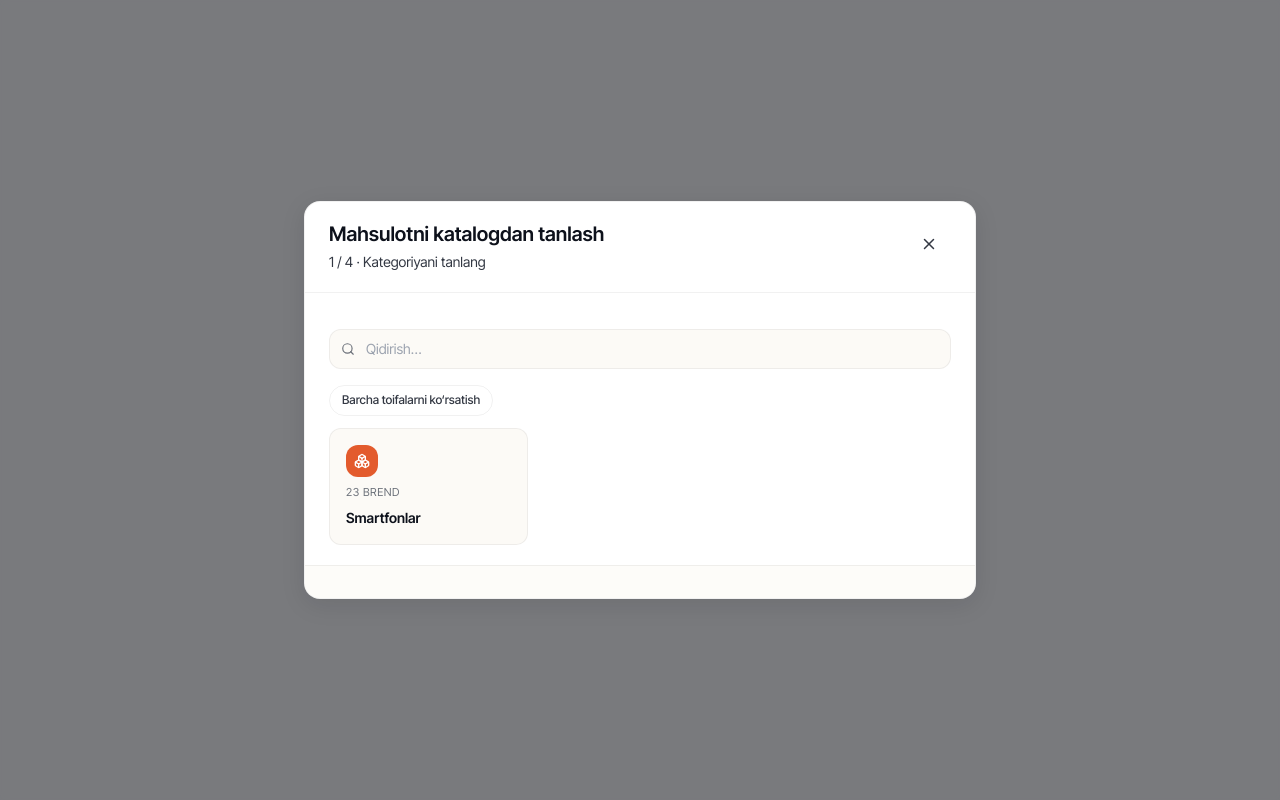
Test: catalog picker respects and can cross the tenant segment › "show all" reveals the out-of-segment category, grouped under its own header
This screenshot has width=1280, height=800.
What coordinates should you click on to do the following:
click the button "Barcha toifalarni ko‘rsatish"
I would click on:
 (411, 400)
Its box is [329,385,493,416].
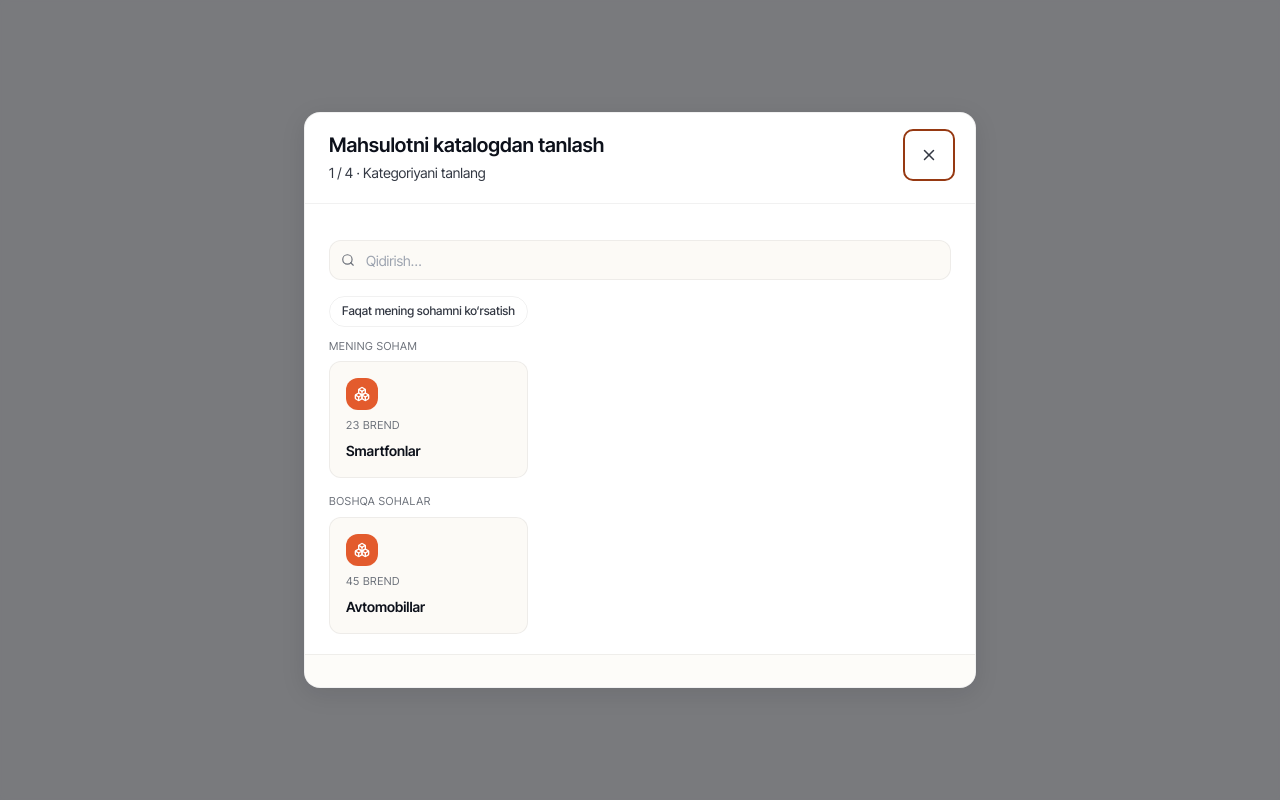
Result: the text "Mening soham" is shown at [329,339,417,353]
Result: the text "Boshqa sohalar" is shown at [329,494,431,508]
Result: the text "Avtomobillar" is shown at [346,596,425,617]
